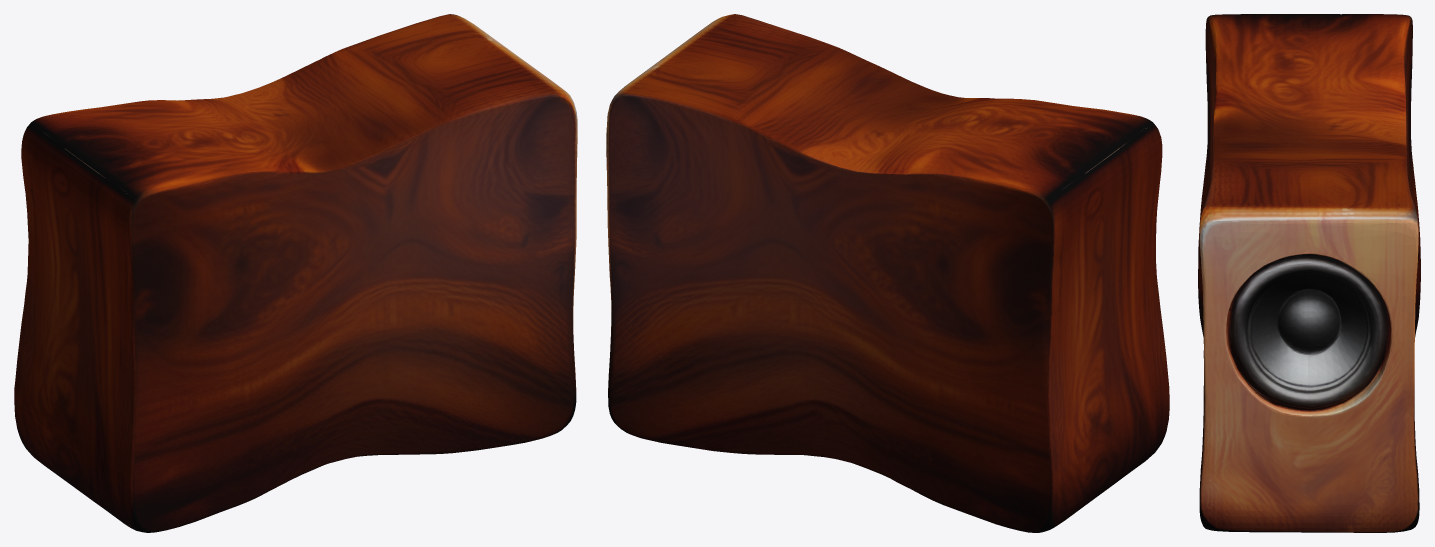
File: wooden-speaker-rustic.jpeg.glb
The picture shows the model from 3 angles, left to right: view 1: azimuth 30°, elevation 25°; view 2: azimuth 150°, elevation 25°; view 3: azimuth 270°, elevation 25°; orthographic projection. The views are drawn at different scales.
Visible parts, largest first — view 1: world; view 2: world; view 3: world.
Boxes of the visible parts, x1,y1,x2,y2 form: world: (14,14,577,532); world: (606,14,1169,532); world: (1198,14,1420,532).
Size of the model in its own units: 0.9952 by 0.7321 by 0.4485.
1 material, 1 textured.
